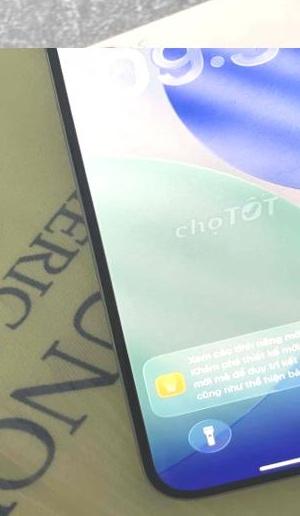scratch: (145, 42, 160, 48)
